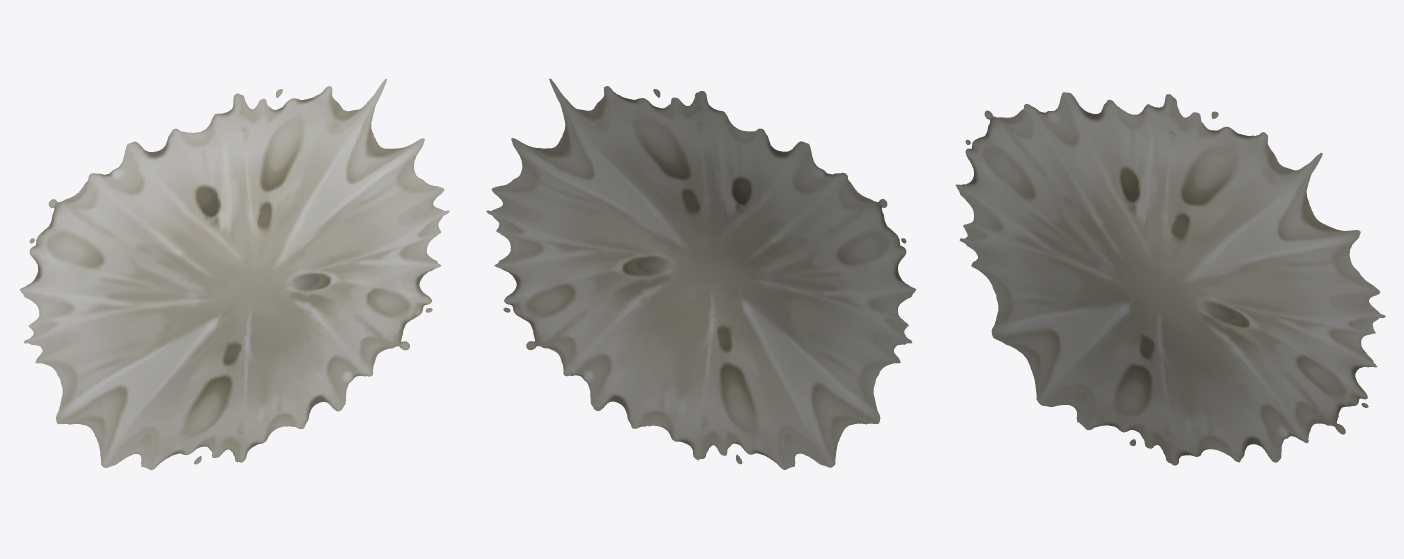
The model's file is Plane01_3_5a030b76__Paste_1_94b24c89_c1f257.obj.
3 views of the same model, side by side, from view 1: azimuth 30°, elevation 25°; view 2: azimuth 150°, elevation 25°; view 3: azimuth 330°, elevation 25° (orthographic).
Size of the model in its own units: 31.44 by 28.99 by 1.79.
1 material, 1 textured.
